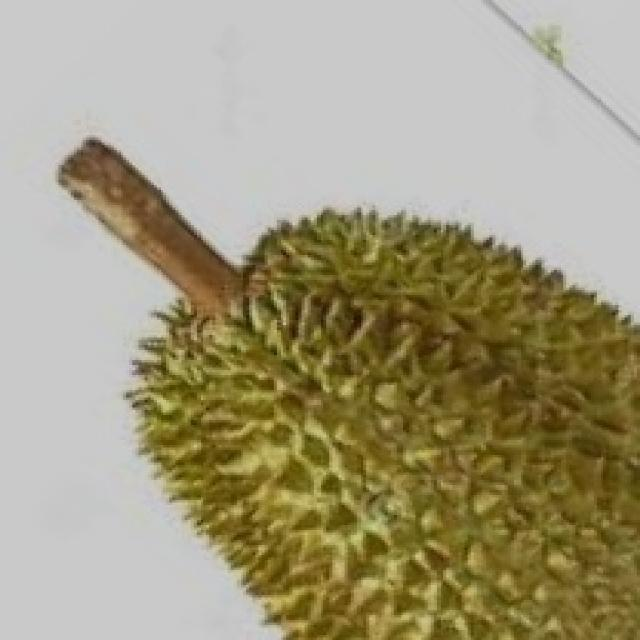fruit: (80, 267, 471, 640)
